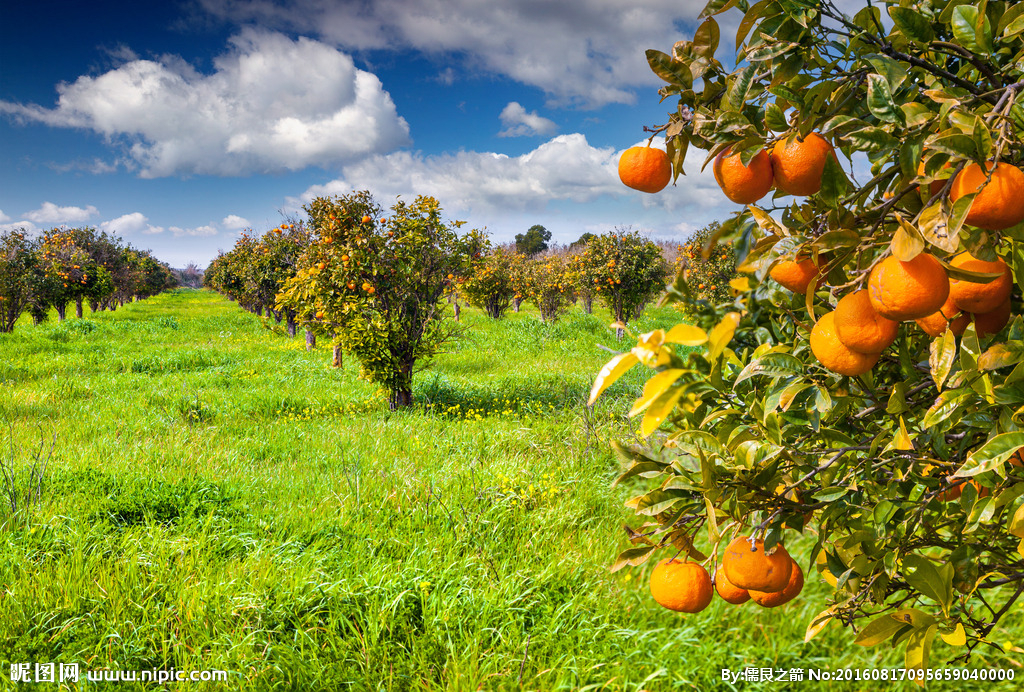orange: (868, 251, 948, 319), (949, 160, 1024, 228), (944, 247, 1012, 312), (834, 286, 899, 352), (811, 310, 876, 374), (771, 130, 835, 193), (723, 533, 791, 591), (712, 140, 774, 203), (766, 236, 833, 294), (650, 558, 712, 611), (747, 551, 804, 606), (619, 144, 676, 193), (915, 289, 965, 331), (714, 560, 752, 602)
